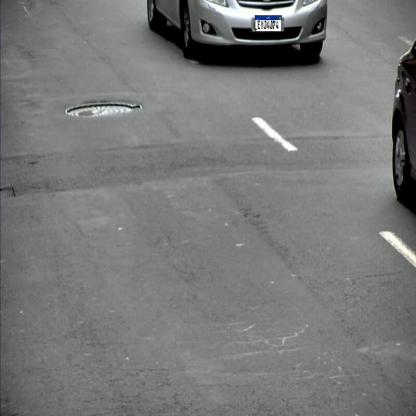PlacaM: (255, 15, 282, 32)
